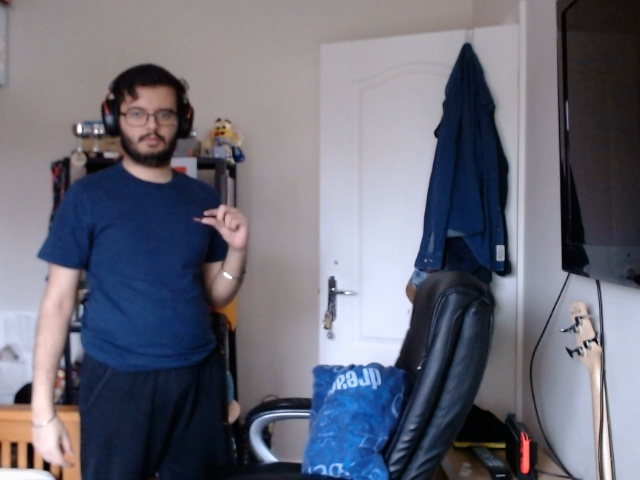Small: (198, 202, 254, 254)
